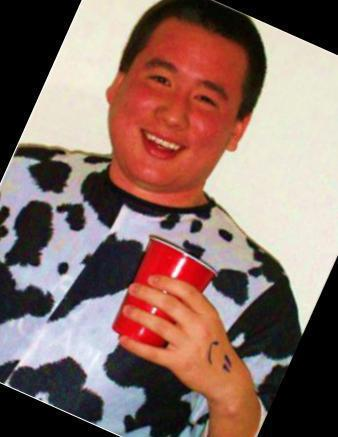Drunk: (124, 21, 235, 177)
